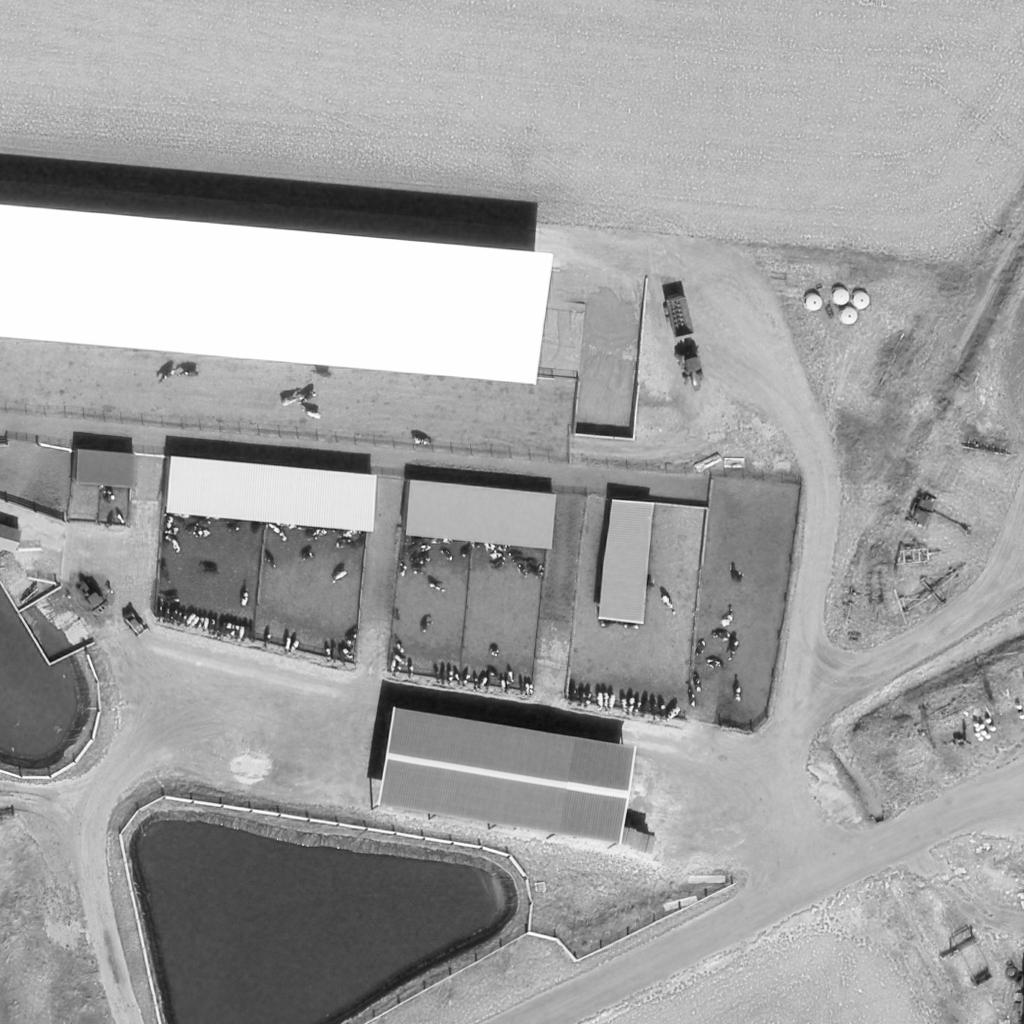vehicle: (71, 578, 111, 616), (678, 356, 708, 392), (122, 612, 150, 638)
